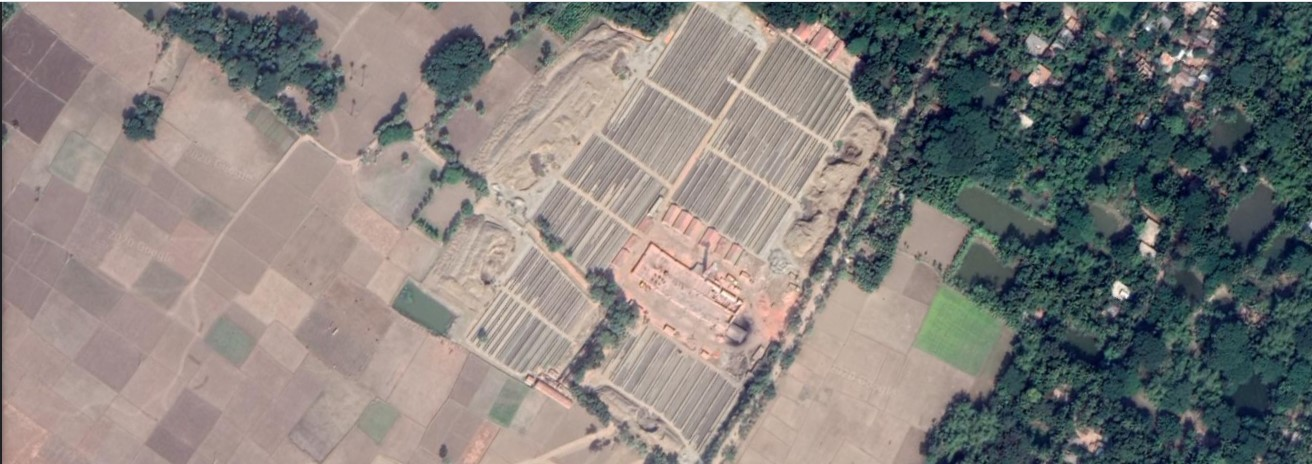kiln: (626, 232, 751, 324)
